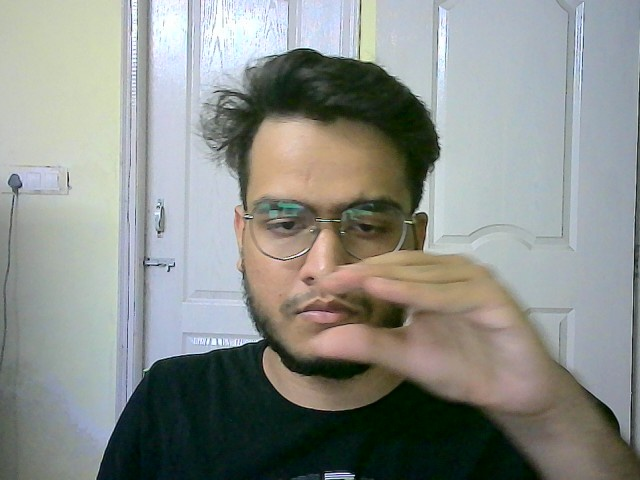No: (309, 245, 563, 413)
